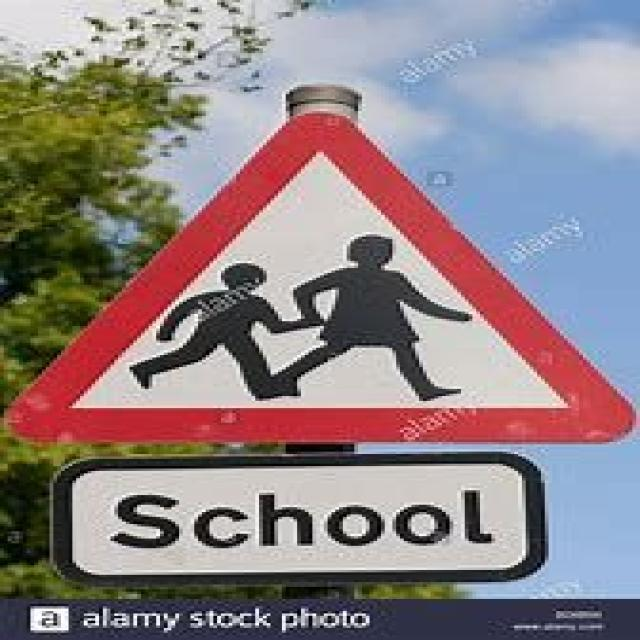school ahead: (20, 109, 622, 449)
